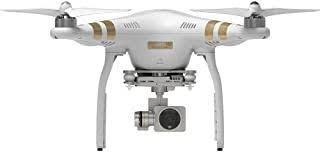drone: (1, 0, 320, 152)
